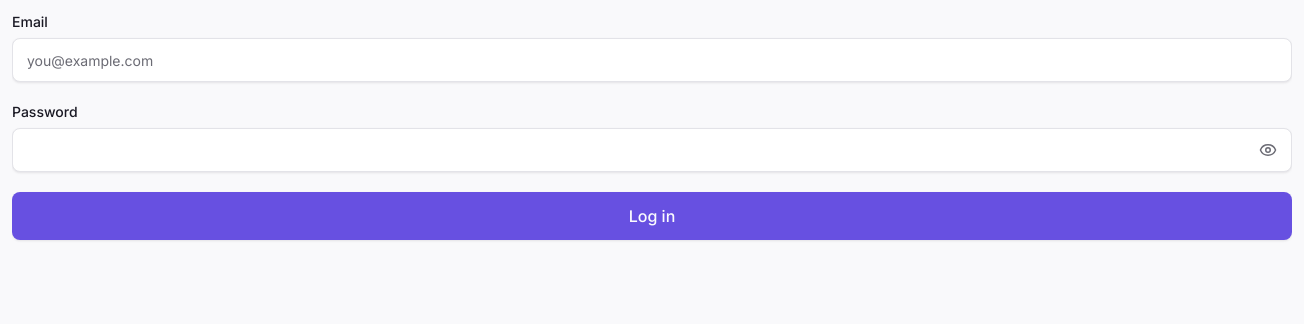
Test case: LoginForm server errors › tells the user when the server can't be reached
The width and height of the screenshot is (1304, 324).
In the field labelled "Email": (652, 60) top-left (12, 38), bottom-right (1292, 82), type "jane@example.com"
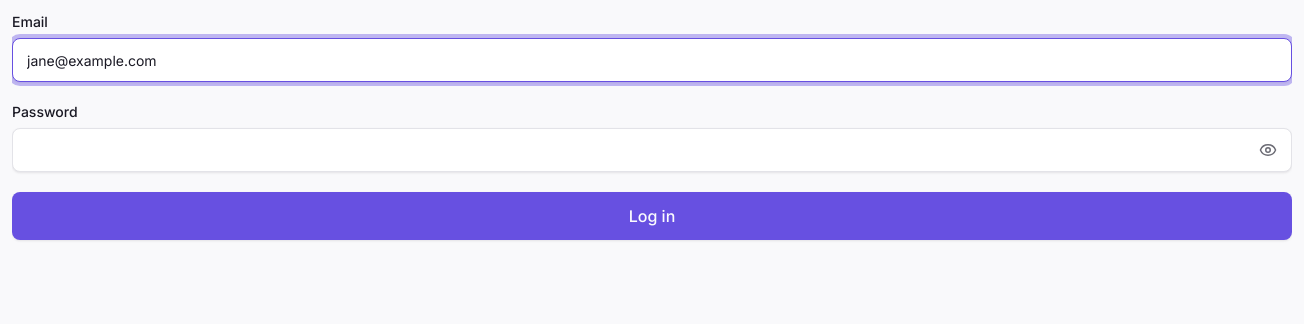
In the password field labelled "Password": (652, 150) top-left (12, 128), bottom-right (1292, 172), type "long-enough-password"
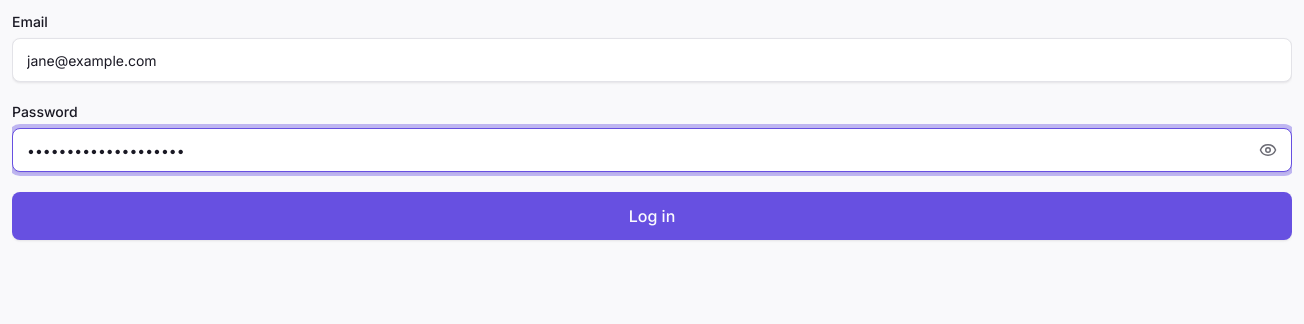
Click the button "Log in": (652, 216) top-left (12, 192), bottom-right (1292, 240)
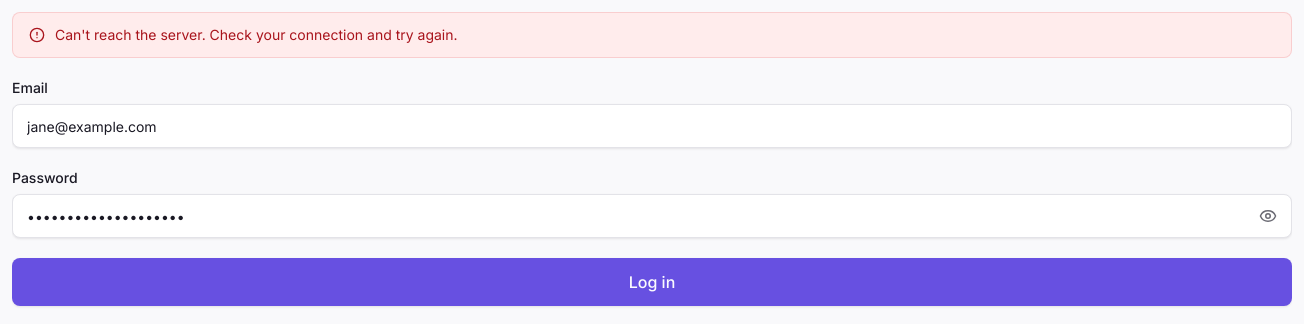
Check: the message shows "Can't reach the server", box top-left (55, 26), bottom-right (458, 43)
